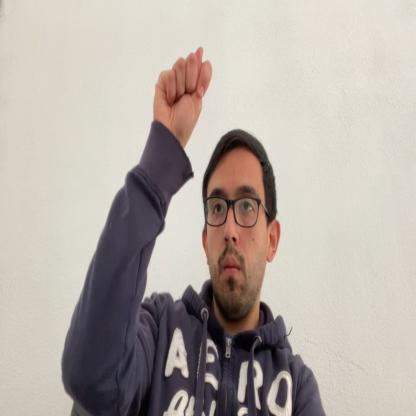T: (153, 44, 212, 141)
